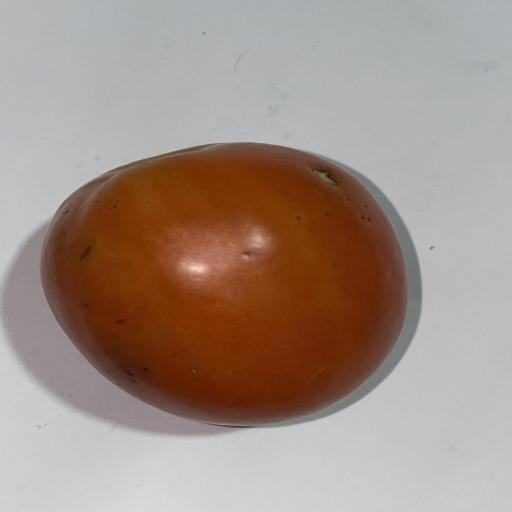overipe: (41, 143, 407, 425)
